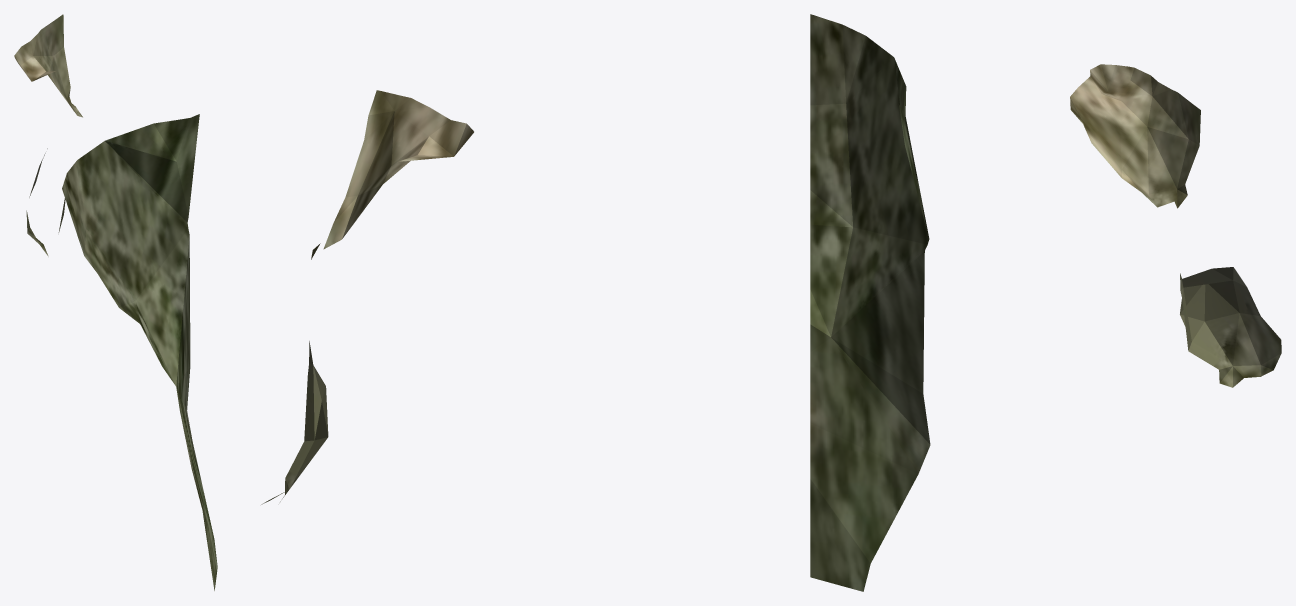
3 renders of one model, left to right at view 1: azimuth 30°, elevation 25°; view 2: azimuth 150°, elevation 25°; view 3: azimuth 270°, elevation 25°, orthographic. The views are drawn at different scales.
Bounding box in the file's own units: 1.26 × 2.95 × 2.62.
1 material, 1 textured.
